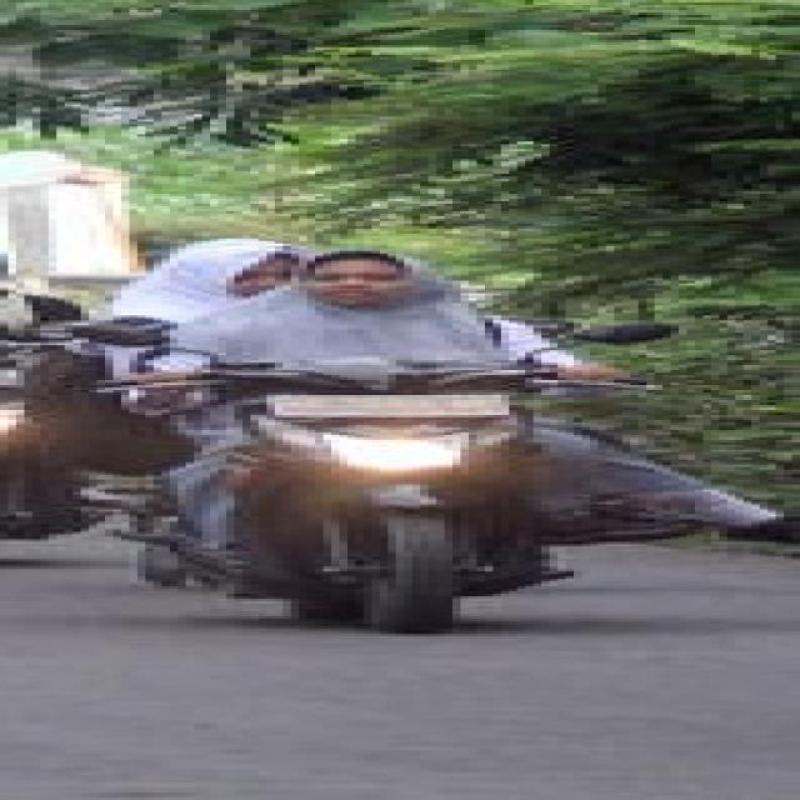nohelmet: (131, 240, 324, 302), (304, 250, 454, 306)
